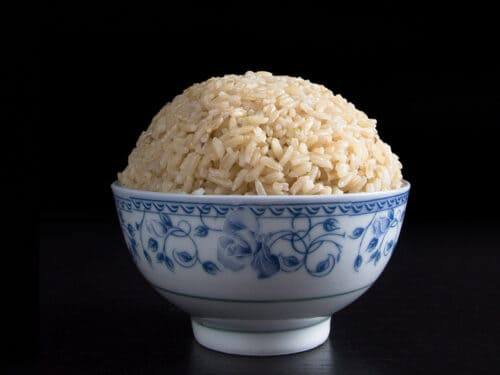rice: (114, 58, 412, 211)
